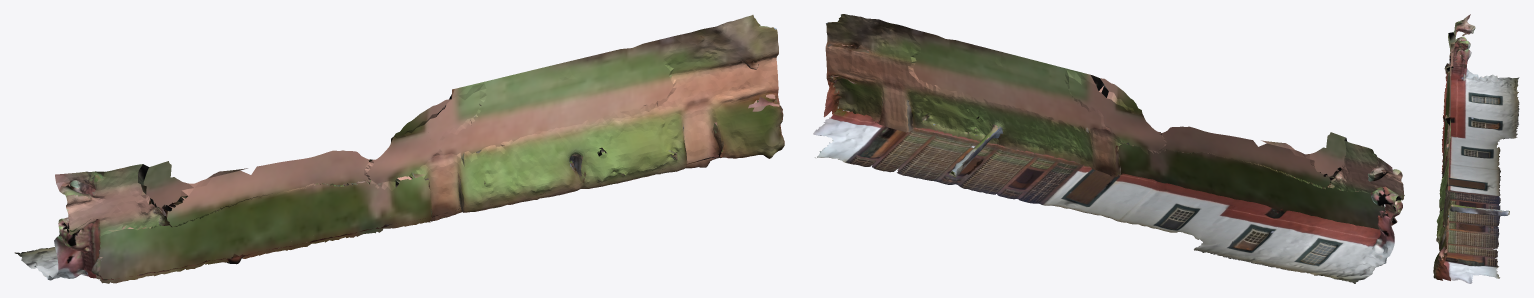
File: G3Finalizado.FBX
The picture shows the model from 3 angles, left to right: view 1: azimuth 30°, elevation 25°; view 2: azimuth 150°, elevation 25°; view 3: azimuth 270°, elevation 25°; orthographic projection. The views are drawn at different scales.
Visible parts, largest first — view 1: Object001, Model; view 2: Object001, Model; view 3: Model, Object001.
Part boxes in pixels (x1=…): Object001: x1=55, y1=15, x2=784, y2=283; Model: x1=14, y1=155, x2=718, y2=280; Object001: x1=823, y1=14, x2=1403, y2=229; Model: x1=813, y1=108, x2=1404, y2=283; Model: x1=1441, y1=36, x2=1519, y2=283; Object001: x1=1433, y1=14, x2=1509, y2=280.
Size of the model in its own units: 12561 by 2328 by 2426.
Materials: 2 (2 with a texture image).
